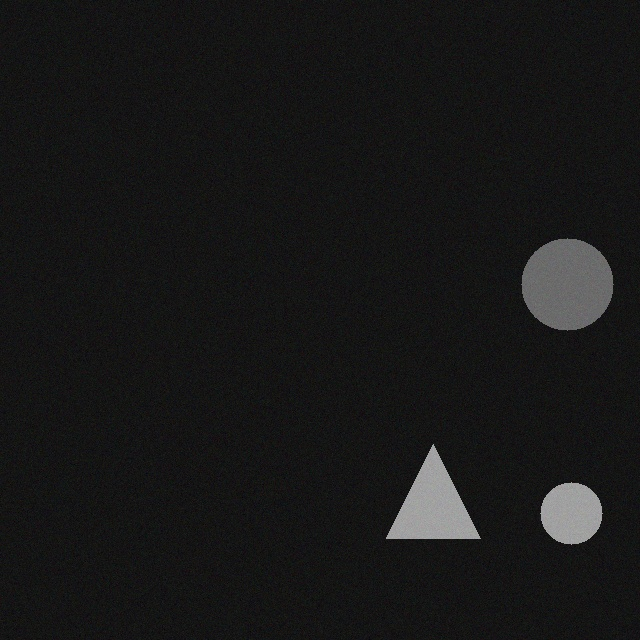circle: (532, 227, 624, 319), (551, 471, 613, 533)
triangle: (397, 433, 491, 527)
